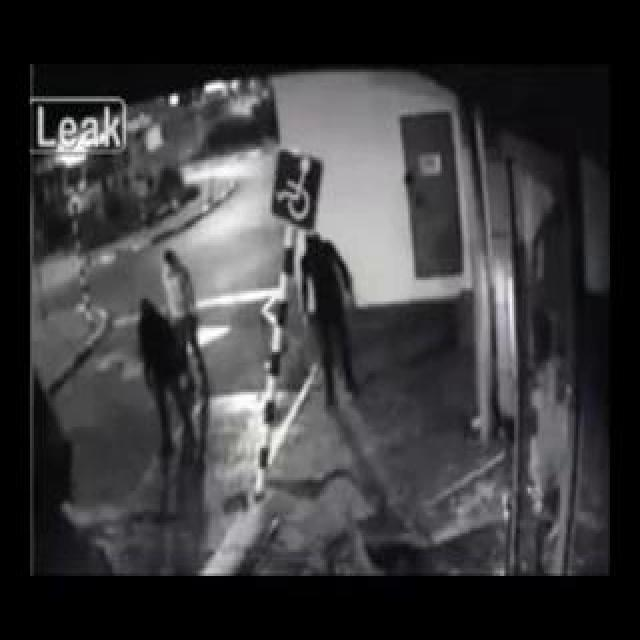burglary: (81, 99, 429, 543)
